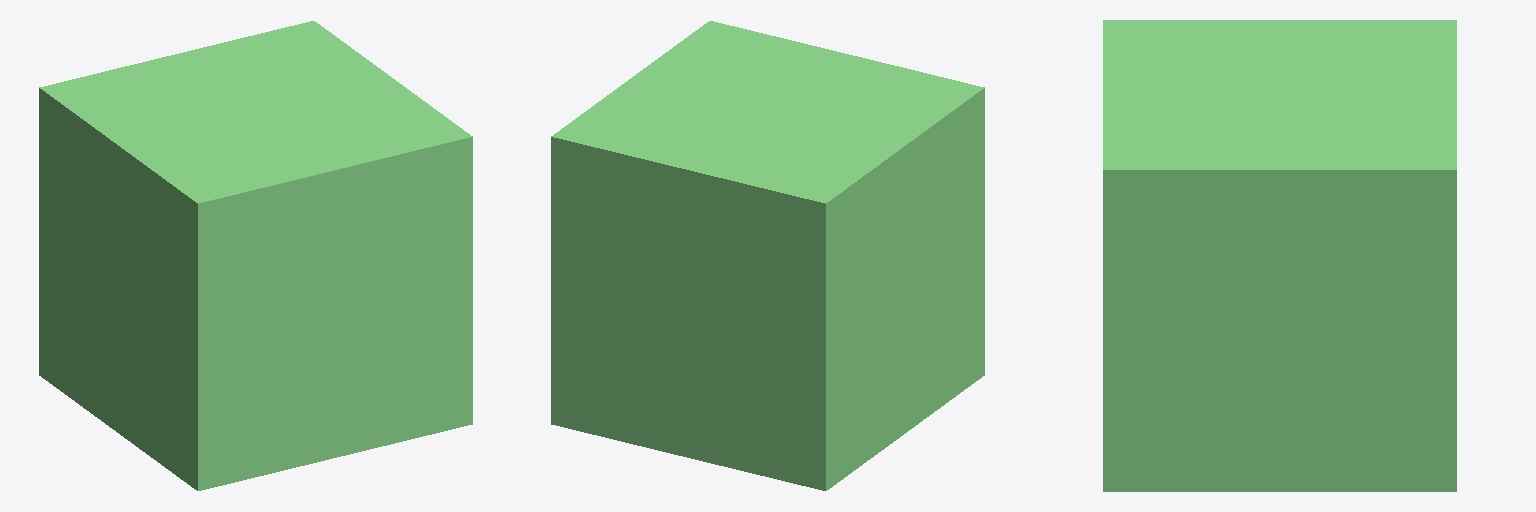
robot.urdf — box36_light04.urdf:
<?xml version="1.0" ?>
<robot name="box36_light04.urdf">
  <dynamics damping="0.5" friction="0.9"/>
  <link name="baseLink">
    <inertial>
      <!-- sim2sim mass probe: 0.4 kg (half the real 811 g box).
           Solid-cube inertia I = m*a^2/6, a = 0.36 m -->
      <mass value="0.4"/>
      <origin xyz="0 0 0"/>
      <inertia ixx="0.00864" ixy="0" ixz="0" iyy="0.00864" iyz="0" izz="0.00864"/>
    </inertial>
    <contact>
      <lateral_friction value="0.9"/>
      <rolling_friction value="0.5"/>
      <stiffness value="30000"/>
      <damping value="1000"/>
    </contact>
    <visual>
      <origin rpy="0 0 0" xyz="0 0 0"/>
      <geometry>
        <mesh filename="box36.obj" scale="1.0 1.0 1.0"/>
      </geometry>
       <material name="mat">
        <color rgba="0.6 0.9 0.6 1"/>
      </material>
    </visual>
    <collision>
      <origin rpy="0 0 0" xyz="0 0 0"/>
      <geometry>
        <mesh filename="box36.obj" scale="1.0 1.0 1.0"/>
      </geometry>
    </collision>
  </link>
</robot>

--- Render facts (derived) ---
Views: 3 orthographic renders of the robot side by side, from view 1: azimuth 30°, elevation 25°; view 2: azimuth 150°, elevation 25°; view 3: azimuth 270°, elevation 25°.
Robot: box36_light04.urdf — 1 links, 0 joints (none); root link baseLink; default pose: every joint at zero.
Visible links, largest first — view 1: baseLink; view 2: baseLink; view 3: baseLink.
Boxes of the visible links, left/top/right/bottom form: baseLink: left=39, top=21, right=472, bottom=490; baseLink: left=551, top=21, right=984, bottom=490; baseLink: left=1103, top=20, right=1456, bottom=491.
Bounding box of the posed robot: 0.36 × 0.36 × 0.36 m (x, y, z).
1 mesh visuals loaded from 1 distinct referenced files (1 OBJ).
